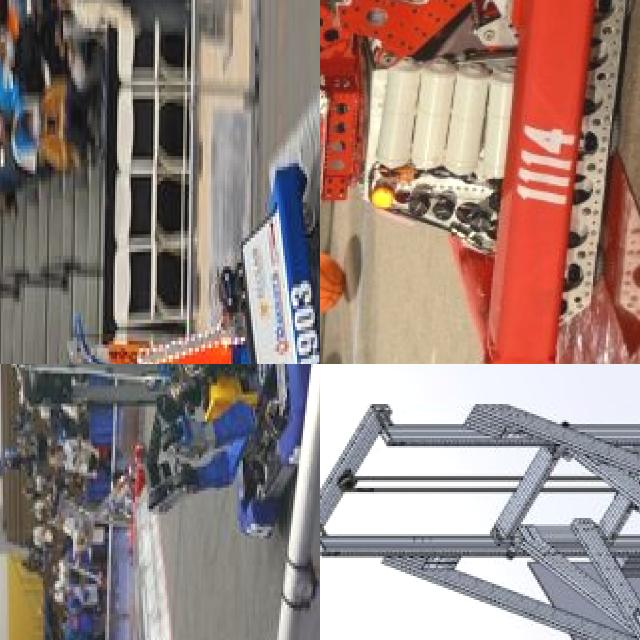FRC-Robots: (320, 0, 629, 362), (320, 364, 640, 640), (94, 98, 320, 364), (0, 364, 320, 508)
